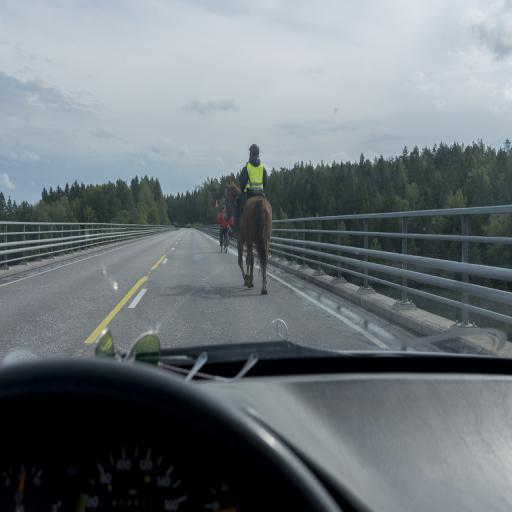horse: (221, 182, 273, 294)
